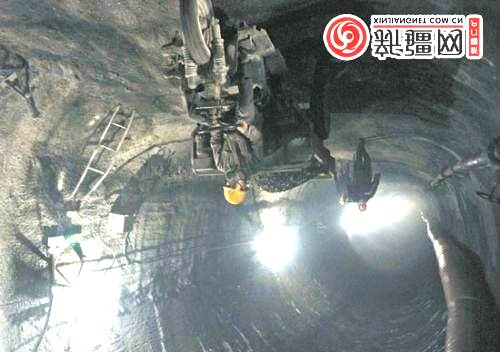helmet: (222, 178, 248, 205), (358, 200, 367, 212)
